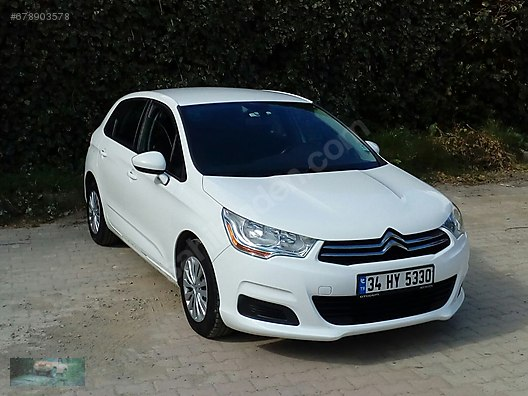citroen: (80, 74, 477, 351)
